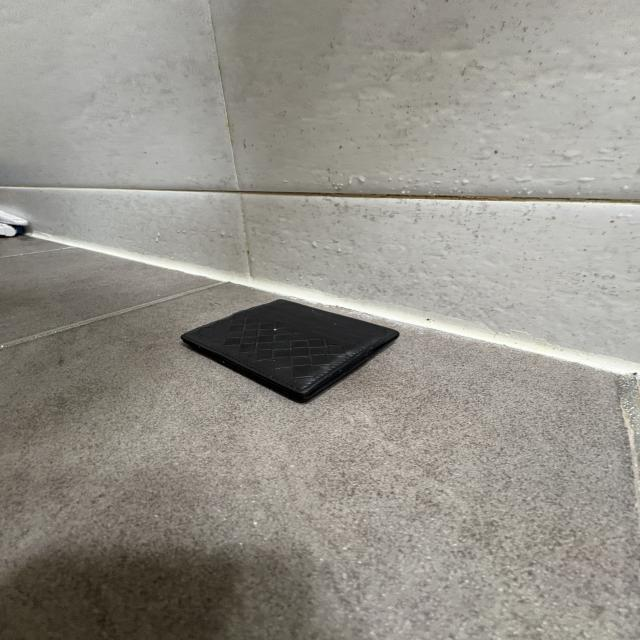wallet: (184, 298, 404, 404)
